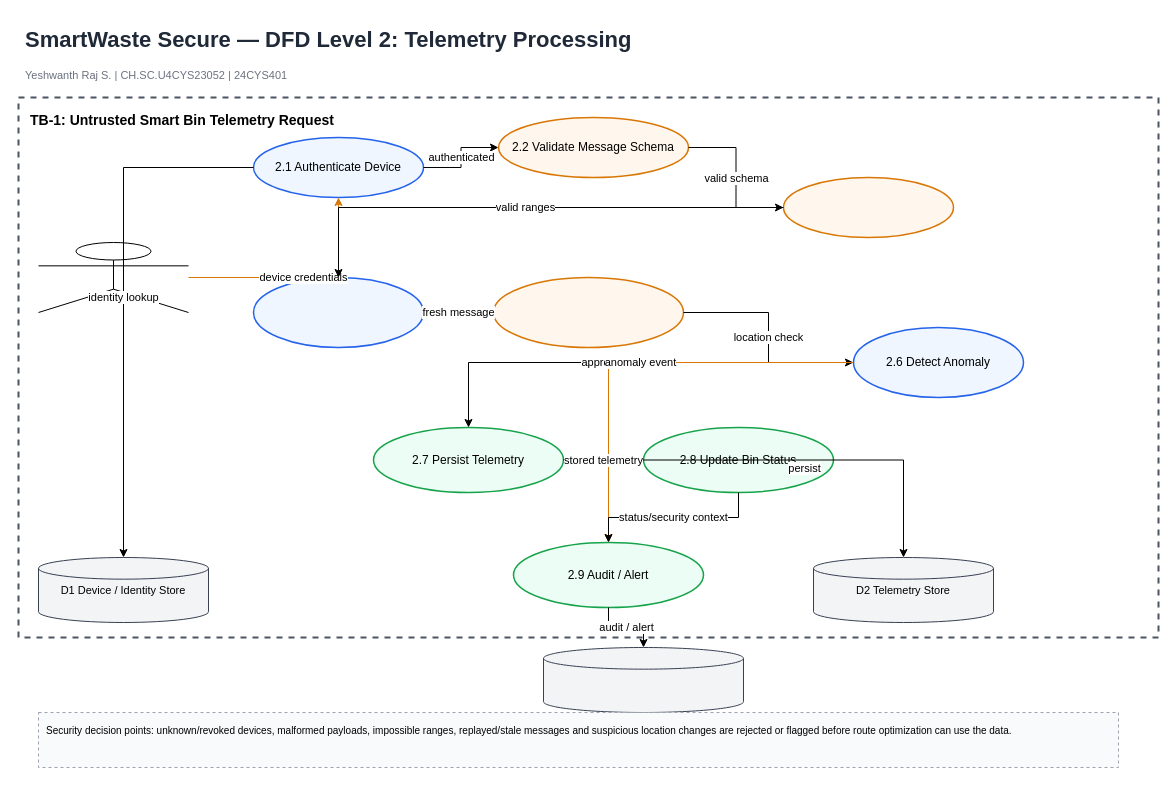
Some shapes in this 1176 by 785 pixel diagram are drawn without their labels. The centre of each missing label's shape, as x and y in pixels:
2.3 Validate Ranges: (868,207)
2.4 Check Timestamp / Sequence: (338,312)
2.5 Check Location Consistency: (588,312)
D3 Audit / Security Store: (643,679)
Smart Bin: (113,277)
